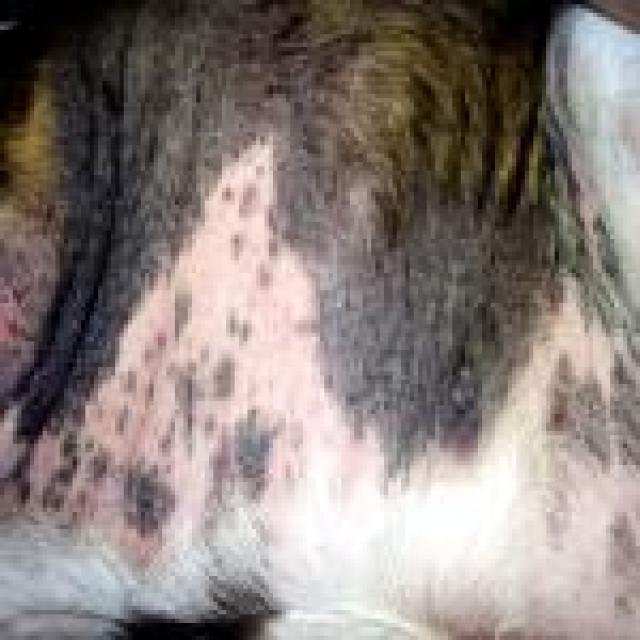fungal infection: (161, 289, 270, 402), (44, 445, 173, 539), (545, 344, 640, 464), (551, 497, 640, 624), (204, 407, 312, 511), (204, 528, 288, 614), (217, 155, 284, 248), (96, 352, 160, 441), (328, 472, 366, 506)
